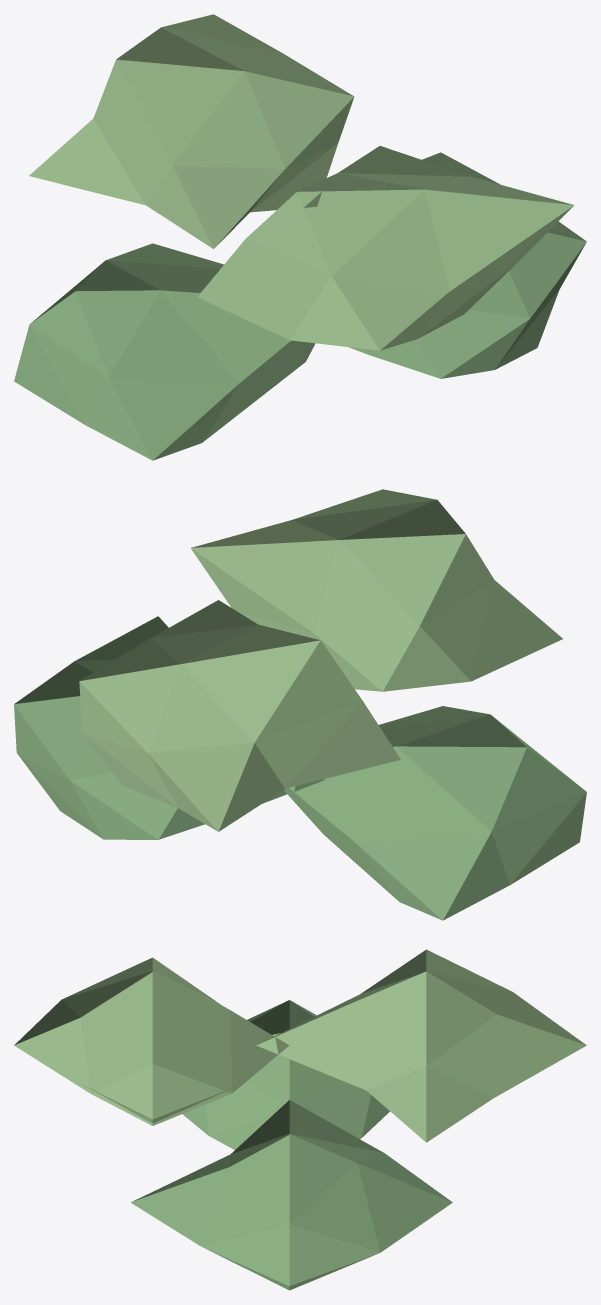
Rendered from shrub_v05.glb.
The picture shows the model from 3 angles, top to bottom: view 1: azimuth 30°, elevation 25°; view 2: azimuth 150°, elevation 25°; view 3: azimuth 270°, elevation 25°; orthographic projection. The views are drawn at different scales.
Parts seen in each view (by area): view 1: lod0; view 2: lod0; view 3: lod0.
Boxes of the visible parts, x1,y1,x2,y2 form: lod0: (14,14,586,460); lod0: (14,489,586,920); lod0: (14,949,586,1290).
Size of what is drawn, in the model's own units: 0.9945 by 0.5813 by 1.05.
